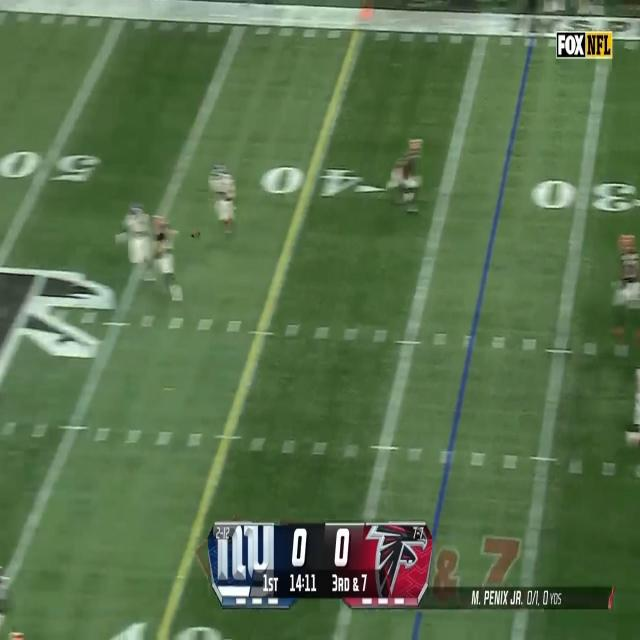Ball: (189, 227, 202, 243)
